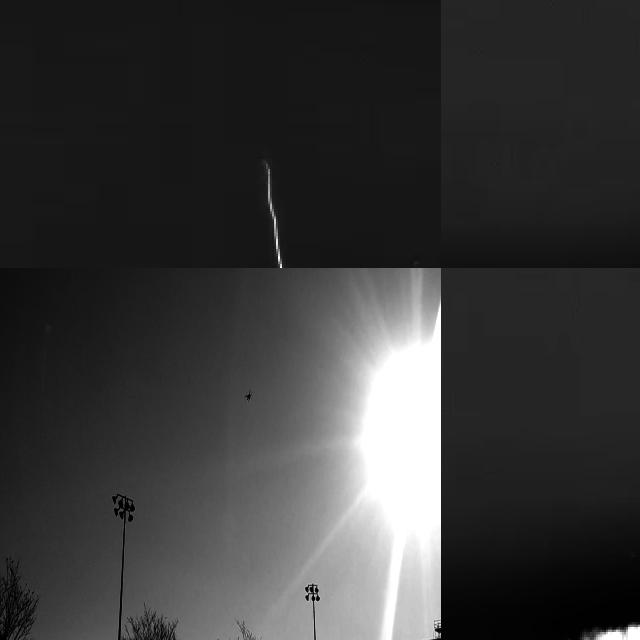0: (617, 539, 640, 572)
drone: (241, 381, 257, 404)
